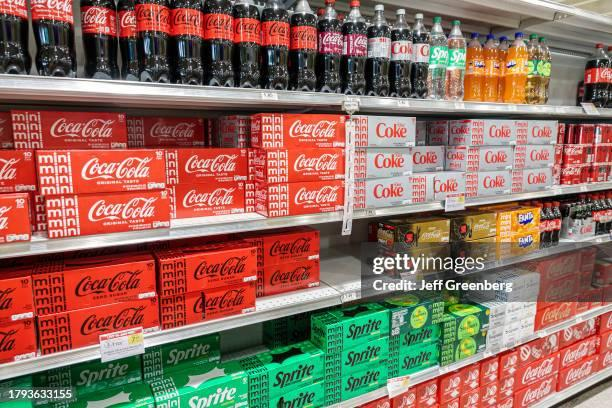coca cola: (32, 254, 155, 315), (38, 297, 158, 354), (45, 190, 169, 237), (36, 149, 165, 194), (155, 241, 256, 296), (159, 282, 255, 329), (11, 111, 126, 148), (251, 113, 345, 148), (256, 180, 343, 216), (241, 227, 319, 267), (253, 148, 344, 182), (168, 178, 245, 218), (166, 148, 248, 184), (169, 0, 203, 84), (202, 0, 233, 86), (340, 0, 367, 95), (288, 0, 316, 90), (315, 0, 342, 92), (126, 116, 205, 147), (365, 5, 390, 95), (257, 259, 319, 295), (0, 0, 30, 73), (389, 9, 412, 98), (449, 119, 526, 145), (352, 115, 415, 146), (0, 266, 33, 324), (117, 0, 140, 81), (582, 43, 611, 106), (354, 176, 411, 208), (354, 148, 412, 178), (410, 171, 465, 202), (445, 146, 513, 170), (410, 13, 429, 97), (515, 353, 559, 389), (0, 318, 36, 362), (556, 355, 599, 391), (0, 150, 36, 192), (0, 193, 30, 243), (516, 333, 559, 367), (513, 375, 556, 407), (559, 336, 598, 368), (465, 170, 511, 197), (212, 115, 250, 147), (534, 301, 575, 329), (512, 144, 556, 169), (559, 319, 596, 347), (517, 120, 558, 144), (512, 167, 551, 192), (411, 146, 445, 172), (439, 371, 461, 402), (29, 192, 46, 231), (416, 378, 437, 407), (499, 349, 518, 378), (460, 362, 479, 391), (426, 120, 448, 145), (480, 356, 498, 385), (390, 387, 416, 407), (415, 120, 435, 145), (479, 381, 498, 407), (0, 112, 13, 148), (459, 388, 479, 407), (498, 376, 514, 397), (599, 350, 611, 369)
coke: (30, 0, 75, 76), (80, 0, 118, 78), (202, 0, 234, 87), (170, 0, 203, 84), (288, 0, 316, 90), (261, 0, 289, 89), (315, 0, 342, 92), (232, 0, 260, 87), (365, 4, 391, 96), (0, 0, 30, 73), (389, 9, 411, 97), (582, 43, 611, 106), (503, 32, 527, 103), (427, 17, 447, 99), (445, 20, 465, 100), (410, 13, 429, 97), (464, 33, 485, 101), (482, 34, 499, 101), (525, 34, 541, 104), (538, 37, 551, 103), (497, 36, 509, 101), (607, 73, 611, 107)
